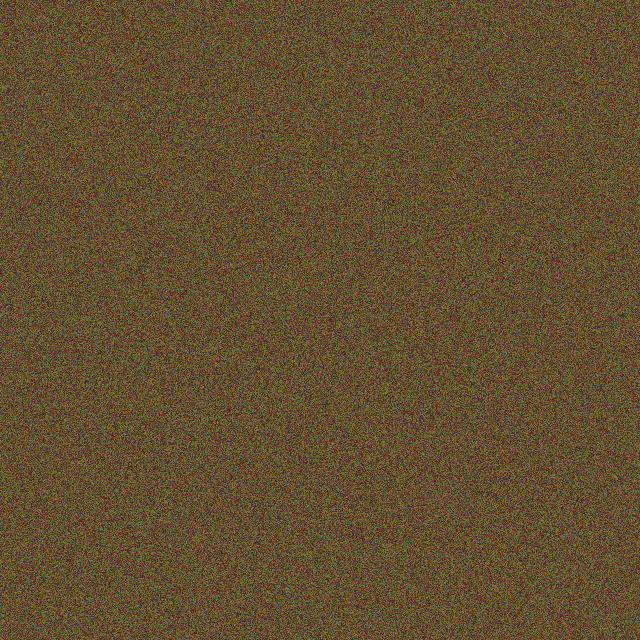metal_debris: (373, 374, 424, 463)
